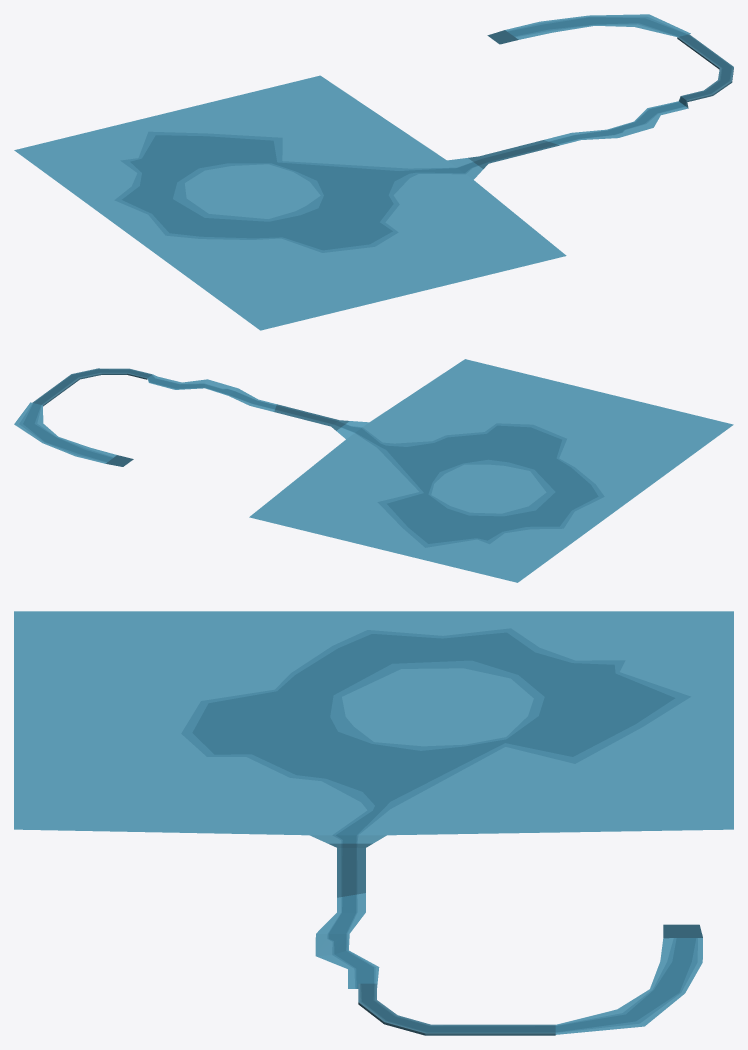
The model's file is kd_stage_136282_0_0_bounded.glb.
3 renders of one model, top to bottom at view 1: azimuth 30°, elevation 25°; view 2: azimuth 150°, elevation 25°; view 3: azimuth 270°, elevation 25°, orthographic. The views are drawn at different scales.
Parts seen in each view (by area): view 1: kd_stage_136282_0_0_bounded; view 2: kd_stage_136282_0_0_bounded; view 3: kd_stage_136282_0_0_bounded.
Boxes of the visible parts, left/top/right/bottom form: kd_stage_136282_0_0_bounded: left=14, top=14, right=733, bottom=330; kd_stage_136282_0_0_bounded: left=14, top=359, right=733, bottom=582; kd_stage_136282_0_0_bounded: left=14, top=611, right=733, bottom=1035.
Bounding box in the file's own units: 110 × 1.83 × 76.09.
1 material, 1 textured.
